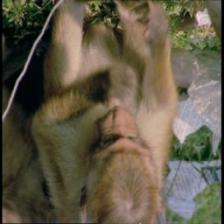monkey: (77, 106, 170, 219)
